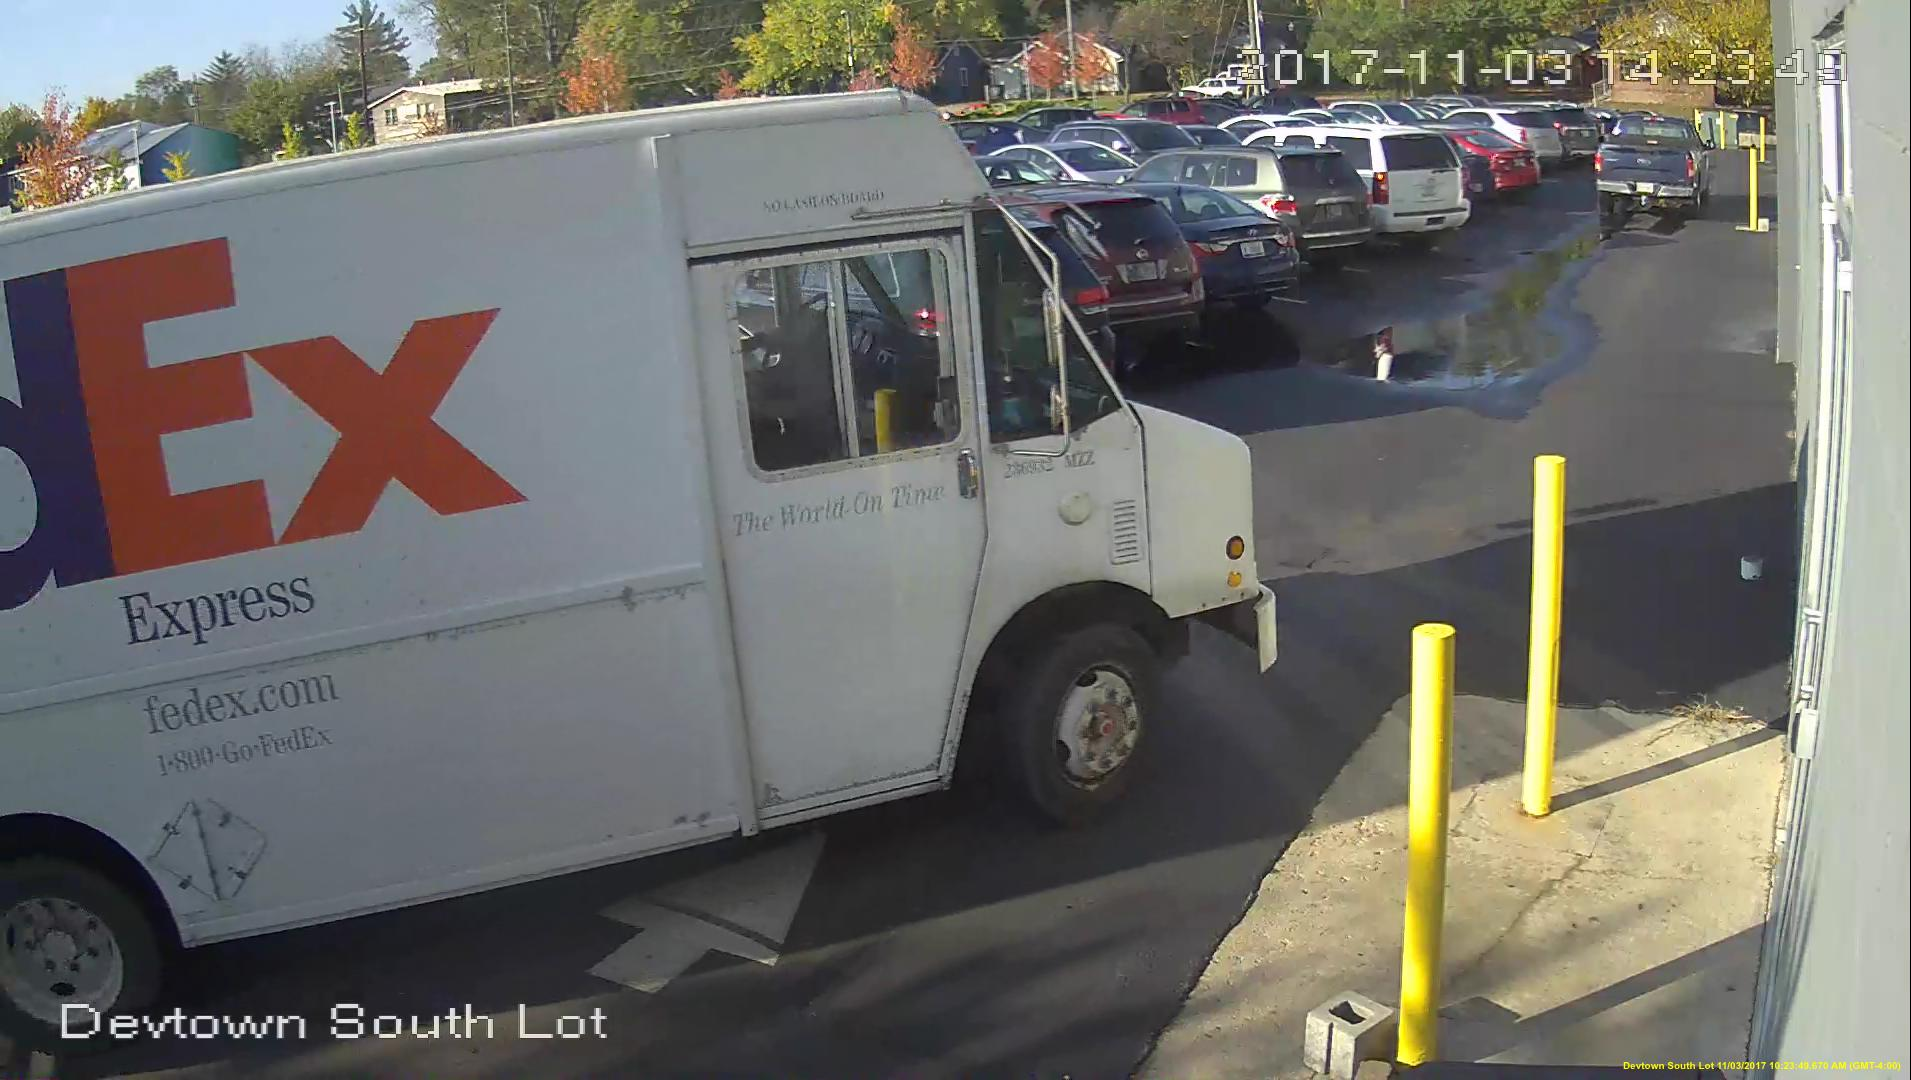fedex_truck: (3, 77, 1297, 999)
